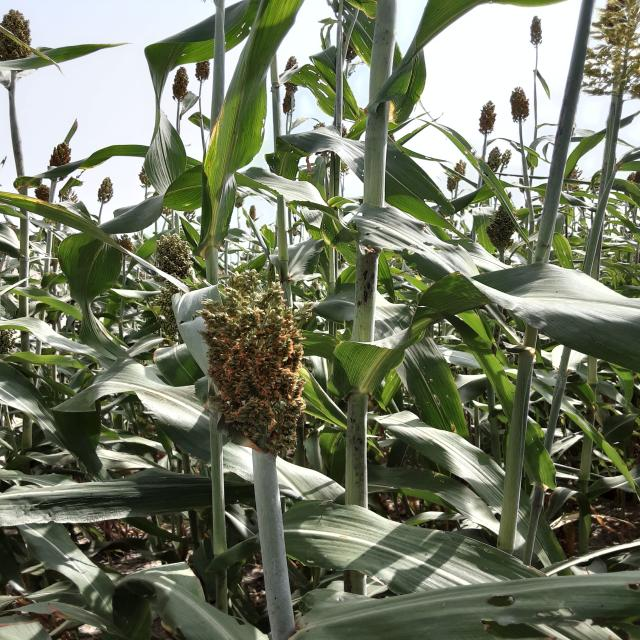UnripeSorghum: (183, 249, 361, 449)
